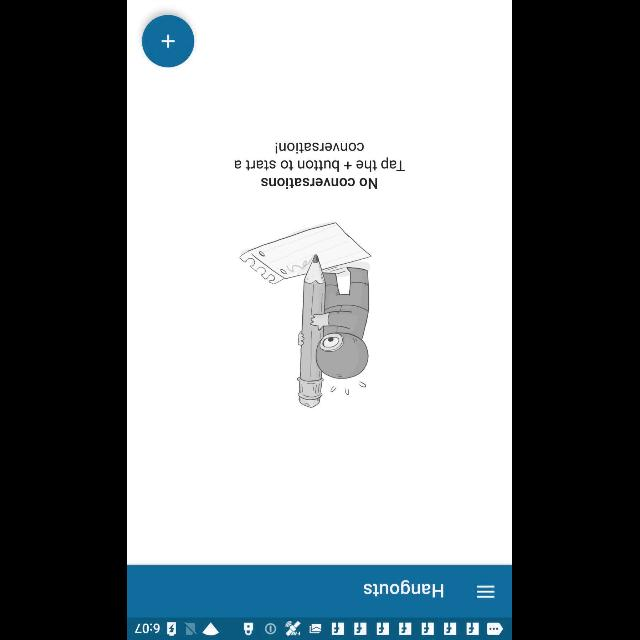button: (142, 15, 195, 67)
icon: (477, 584, 495, 598)
image: (240, 221, 372, 407)
text: (234, 142, 406, 172), (364, 580, 444, 598), (262, 178, 378, 190)
toolbar: (128, 565, 512, 617)
uppertaskbar: (128, 617, 512, 639)
